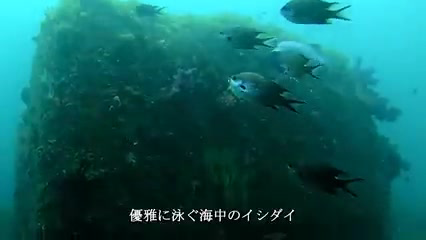mezina: (224, 70, 307, 117), (287, 156, 369, 203), (269, 48, 329, 85), (208, 25, 278, 55), (275, 1, 361, 23)
